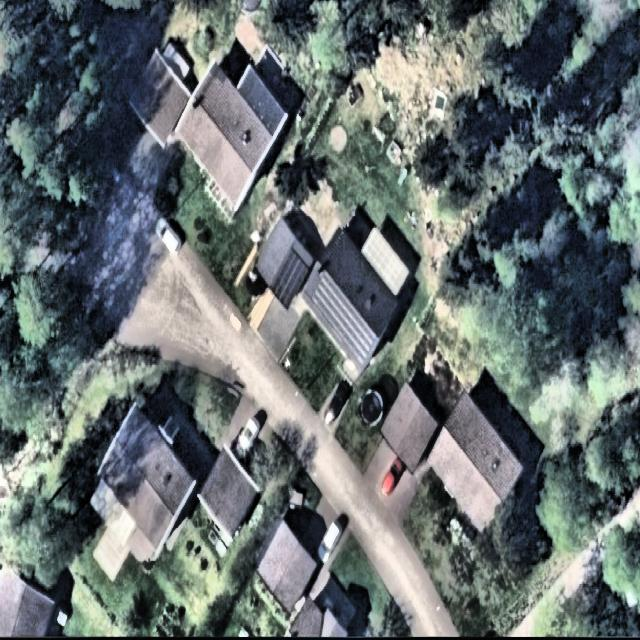roof_pv: (342, 294, 378, 367), (272, 247, 309, 308), (311, 270, 348, 329)
